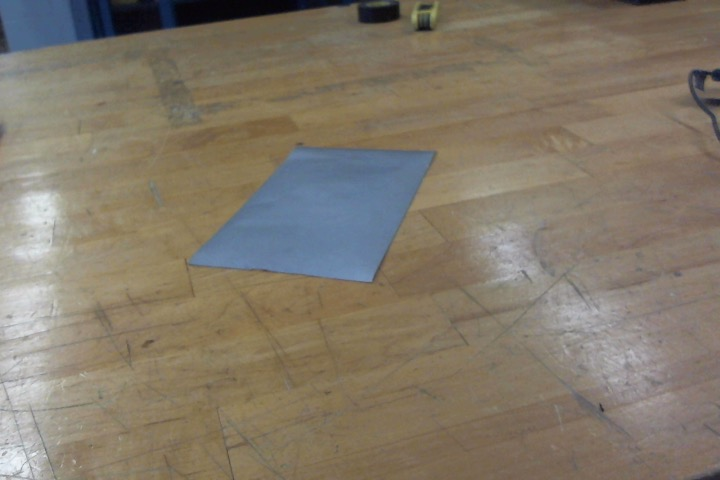Tape: (188, 146, 438, 283)
